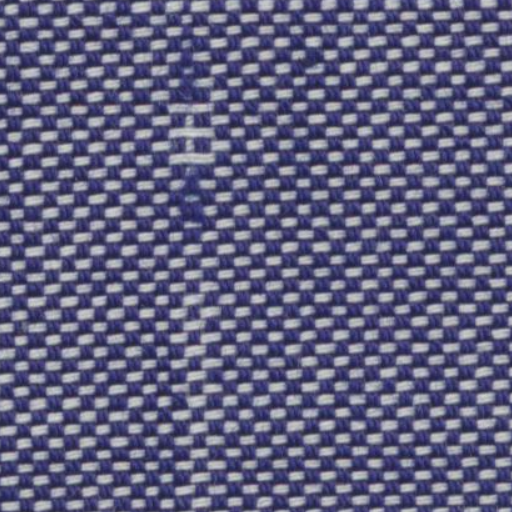TuoSha: (128, 16, 252, 502)
